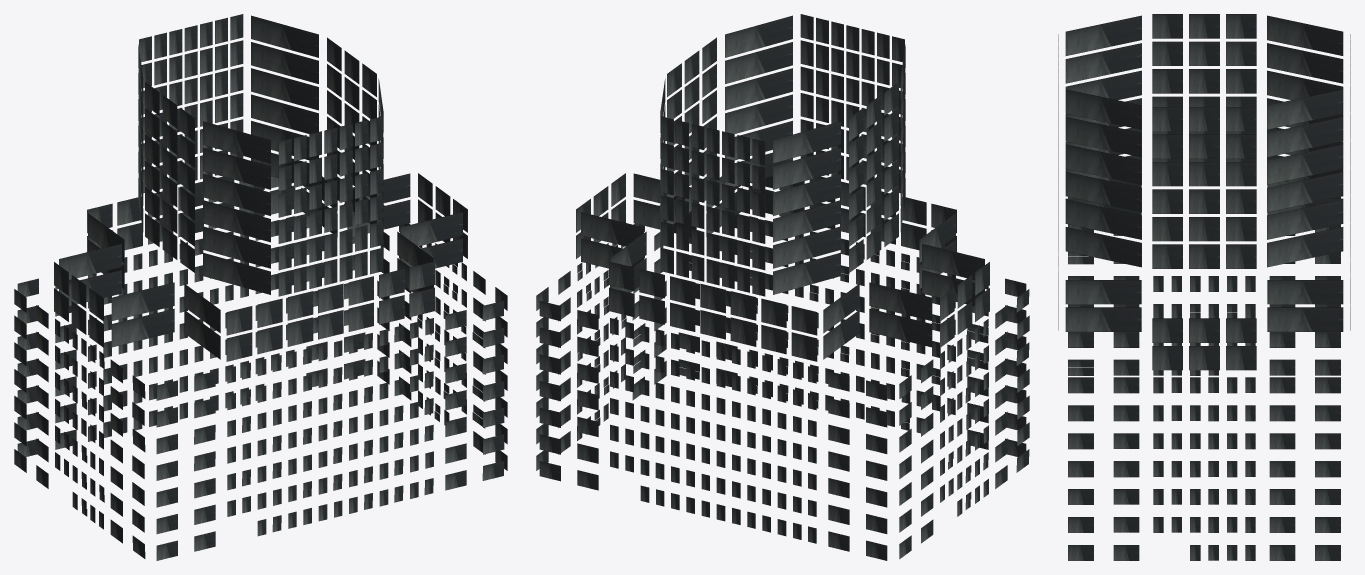
Rendered from TRANS_Building_15stores_HouseOffice.obj.
The picture shows the model from 3 angles, left to right: view 1: azimuth 30°, elevation 25°; view 2: azimuth 150°, elevation 25°; view 3: azimuth 270°, elevation 25°; orthographic projection. The views are drawn at different scales.
Visible parts, largest first — view 1: TRANS_Building_15stores_HouseOffice; view 2: TRANS_Building_15stores_HouseOffice; view 3: TRANS_Building_15stores_HouseOffice.
Part boxes in pixels (<box>): TRANS_Building_15stores_HouseOffice: <box>14,14,507,560</box>; TRANS_Building_15stores_HouseOffice: <box>536,14,1029,560</box>; TRANS_Building_15stores_HouseOffice: <box>1058,14,1350,560</box>.
Size of the model in its own units: 15.69 by 16.05 by 10.44.
